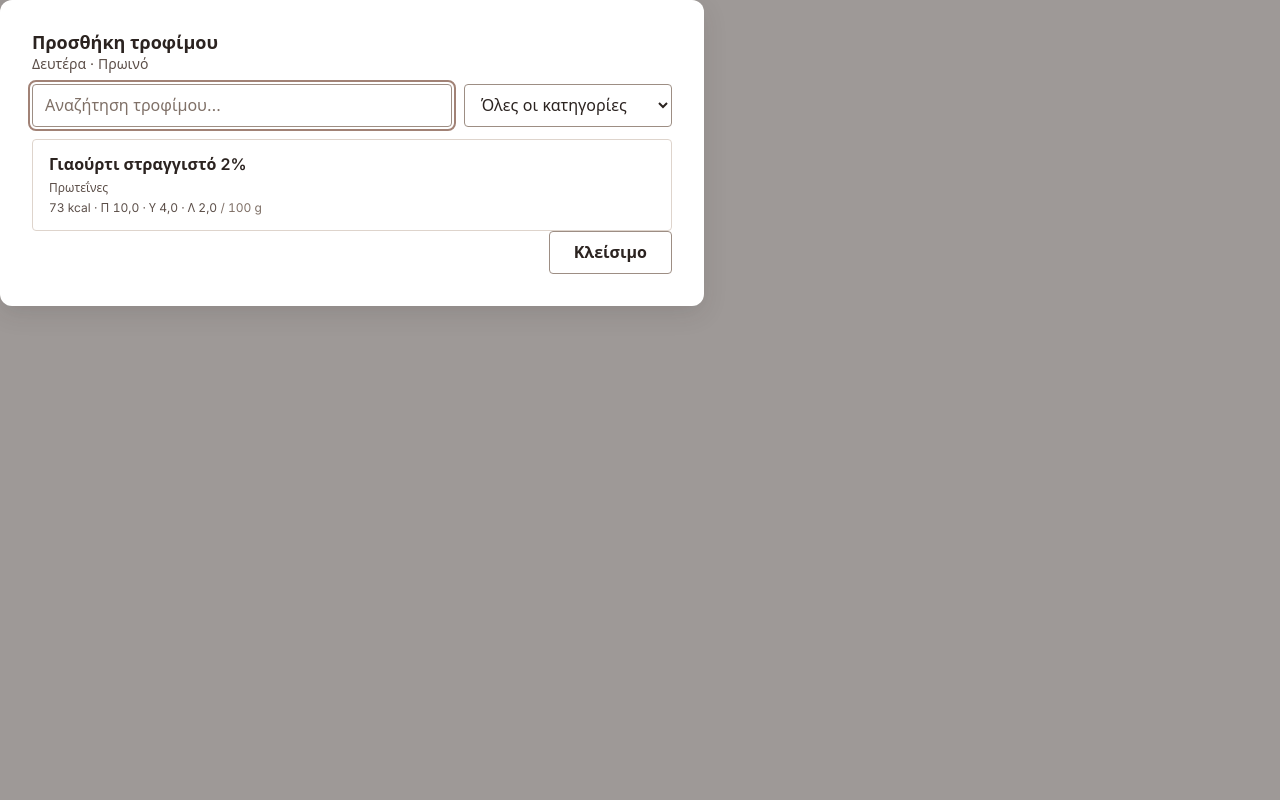
Test case: AddFoodDialog › should fall back to the first portion when none is marked default
The image size is (1280, 800).
Click the text "Γιαούρτι στραγγιστό 2%".
click(148, 164)  # box 49,154 -> 246,174
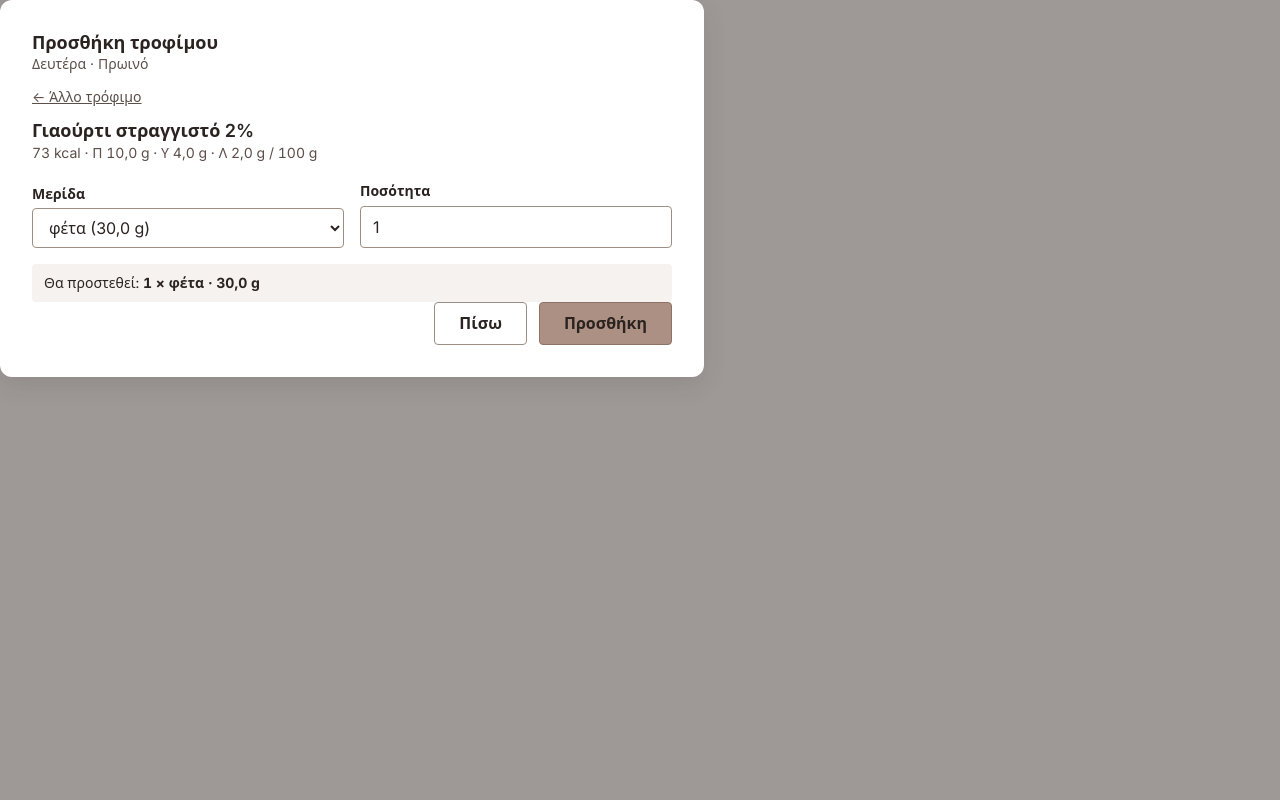
Now the dropdown labelled "Μερίδα" shows "φέτα (30,0 g)", box 32,208 -> 344,248
